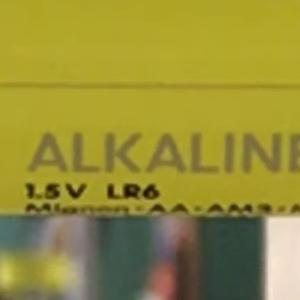keyword: (21, 125, 142, 180)
